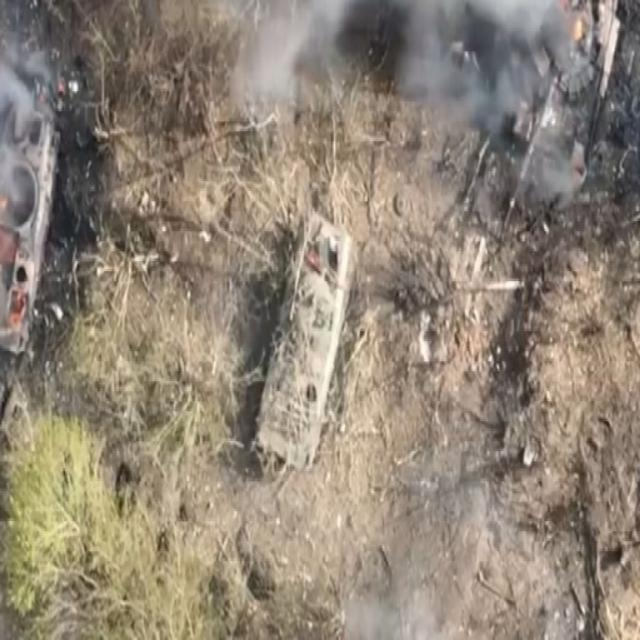APC-IFV: (244, 200, 354, 467)
TANK: (502, 2, 622, 238)
